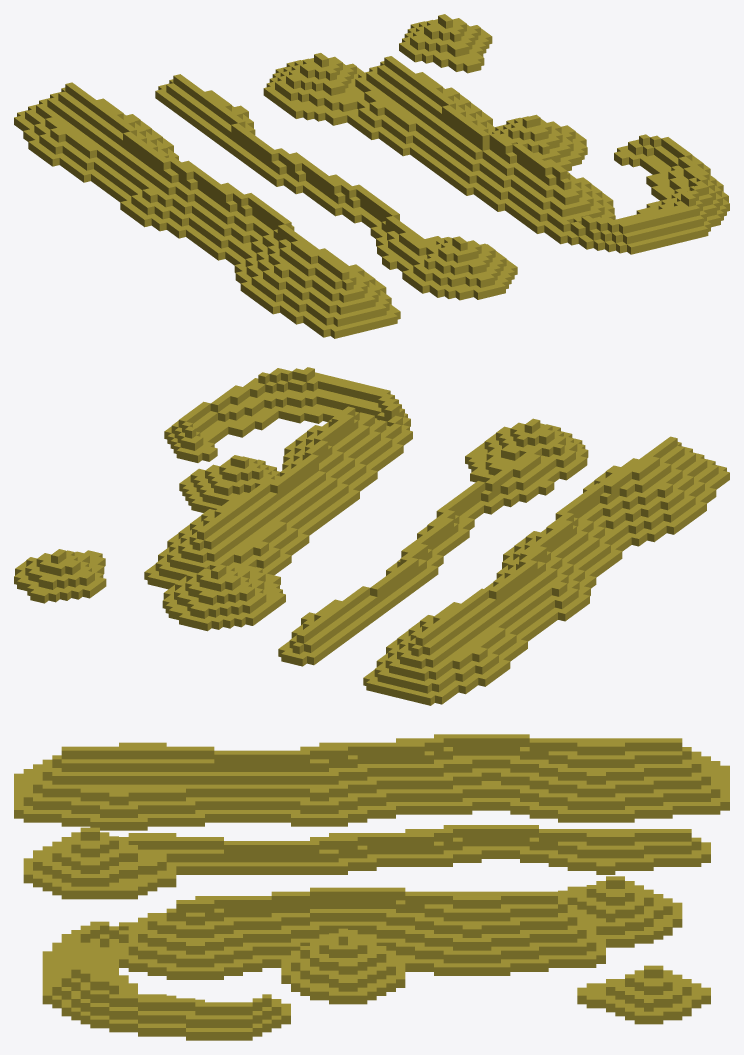
File: dunes_3_overtile.glb
The picture shows the model from 3 angles, top to bottom: view 1: azimuth 30°, elevation 25°; view 2: azimuth 150°, elevation 25°; view 3: azimuth 270°, elevation 25°; orthographic projection. The views are drawn at different scales.
Parts seen in each view (by area): view 1: dunes_3_overtile; view 2: dunes_3_overtile; view 3: dunes_3_overtile.
Part boxes in pixels (left/top/right/bottom): dunes_3_overtile: left=14, top=14, right=729, bottom=338; dunes_3_overtile: left=14, top=367, right=729, bottom=705; dunes_3_overtile: left=14, top=734, right=729, bottom=1040.
Bounding box in the file's own units: 6.9 × 0.6 × 7.5.
Materials: 1 (1 with a texture image).
